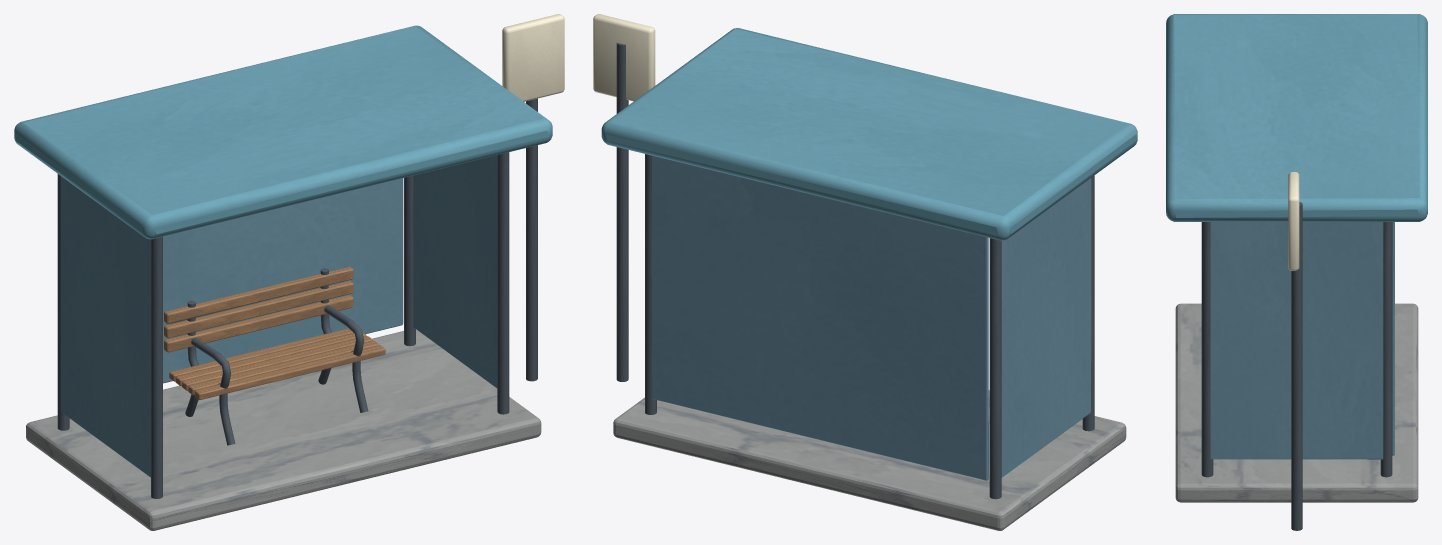
File: bus_stop.glb
3 renders of one model, left to right at view 1: azimuth 30°, elevation 25°; view 2: azimuth 150°, elevation 25°; view 3: azimuth 270°, elevation 25°, orthographic. The views are drawn at different scales.
Visible parts, largest first — view 1: bus_stop; view 2: bus_stop; view 3: bus_stop.
Boxes of the visible parts, x1,y1,x2,y2 form: bus_stop: (14,14,564,530); bus_stop: (593,14,1137,530); bus_stop: (1166,14,1427,530).
Size of the model in its own units: 4.18 by 2.97 by 2.05.
Materials: 3 (3 with a texture image).
